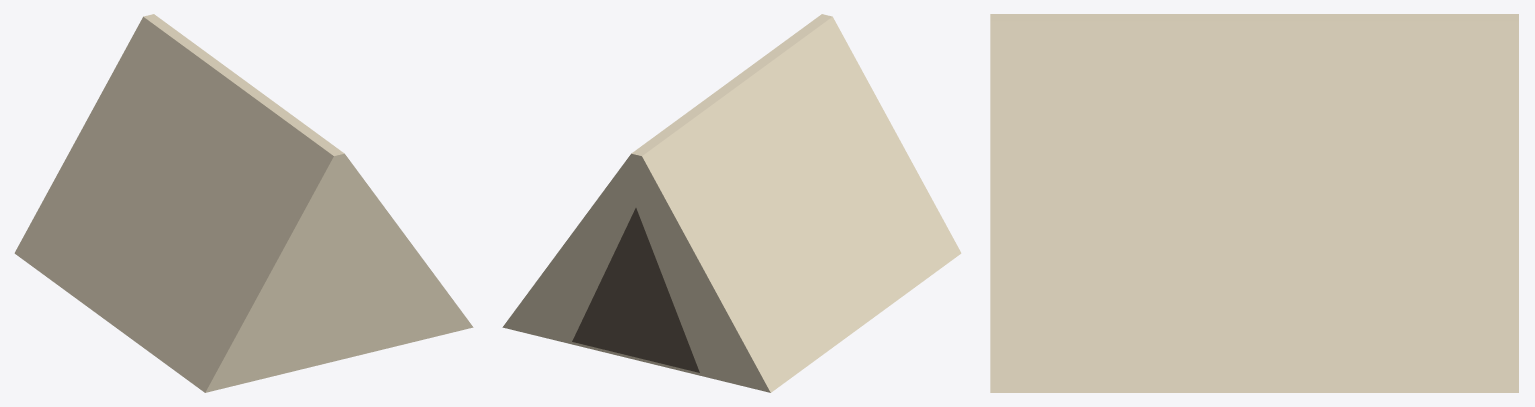
File: tent.glb
3 renders of one model, left to right at view 1: azimuth 30°, elevation 25°; view 2: azimuth 150°, elevation 25°; view 3: azimuth 270°, elevation 25°, orthographic. The views are drawn at different scales.
Visible parts, largest first — view 1: tent; view 2: tent; view 3: tent.
Part boxes in pixels (left/top/right/bottom): tent: left=14, top=14, right=473, bottom=392; tent: left=502, top=14, right=961, bottom=392; tent: left=990, top=14, right=1518, bottom=392.
Bounding box in the file's own units: 2.6 × 1.9 × 3.21.
